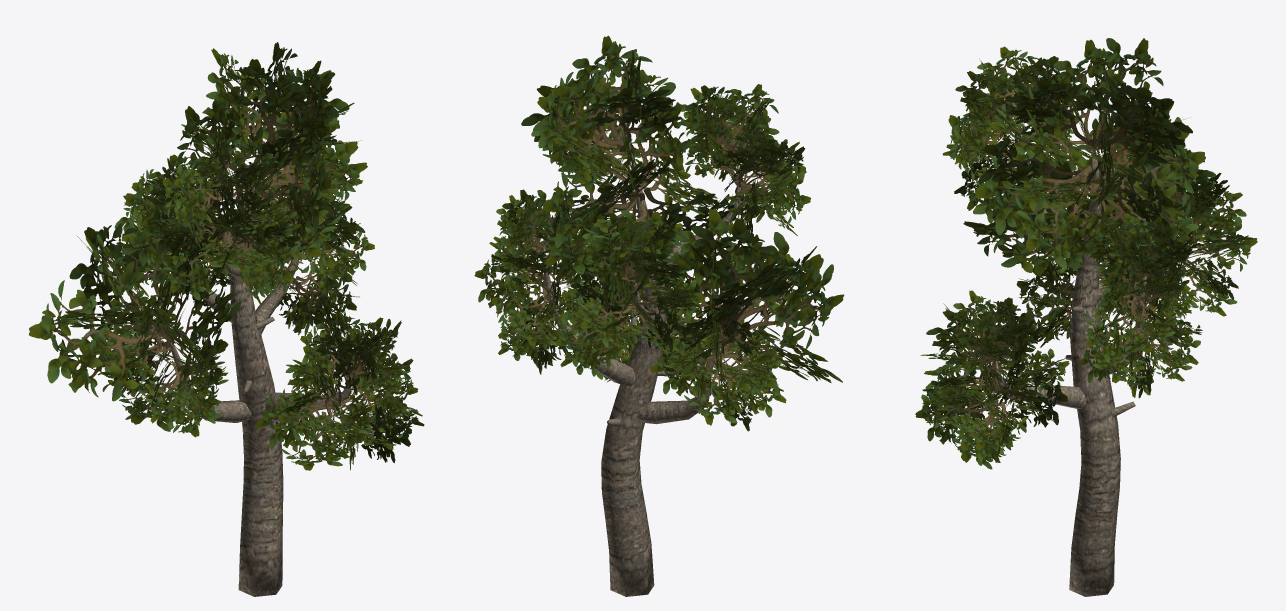
The model's file is tree.obj.
3 views of the same model, side by side, from view 1: azimuth 30°, elevation 25°; view 2: azimuth 150°, elevation 25°; view 3: azimuth 270°, elevation 25° (orthographic). The views are drawn at different scales.
Parts seen in each view (by area): view 1: BRAK; view 2: BRAK; view 3: BRAK.
Part boxes in pixels (x1,y1,x2,y2): BRAK: (28,42,424,596); BRAK: (474,35,844,596); BRAK: (915,38,1257,596).
Bounding box in the file's own units: 2.9 × 4.13 × 2.45.
